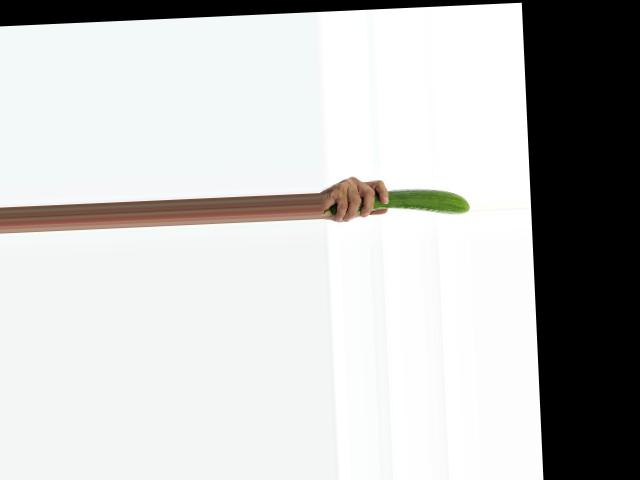cucumber: (323, 186, 471, 220)
